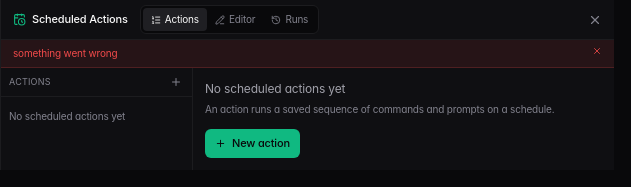
Test: SchedulesWorkspace › shows and dismisses the error strip
The image size is (631, 187).
Expected: the text "something went wrong" is shown, [13,46,118,61]
Step 1. Click the button named "Dismiss error" → [597, 51], box [592,46,602,56]
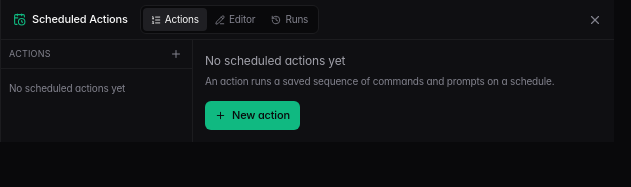
Result: the text "something went wrong" is gone
